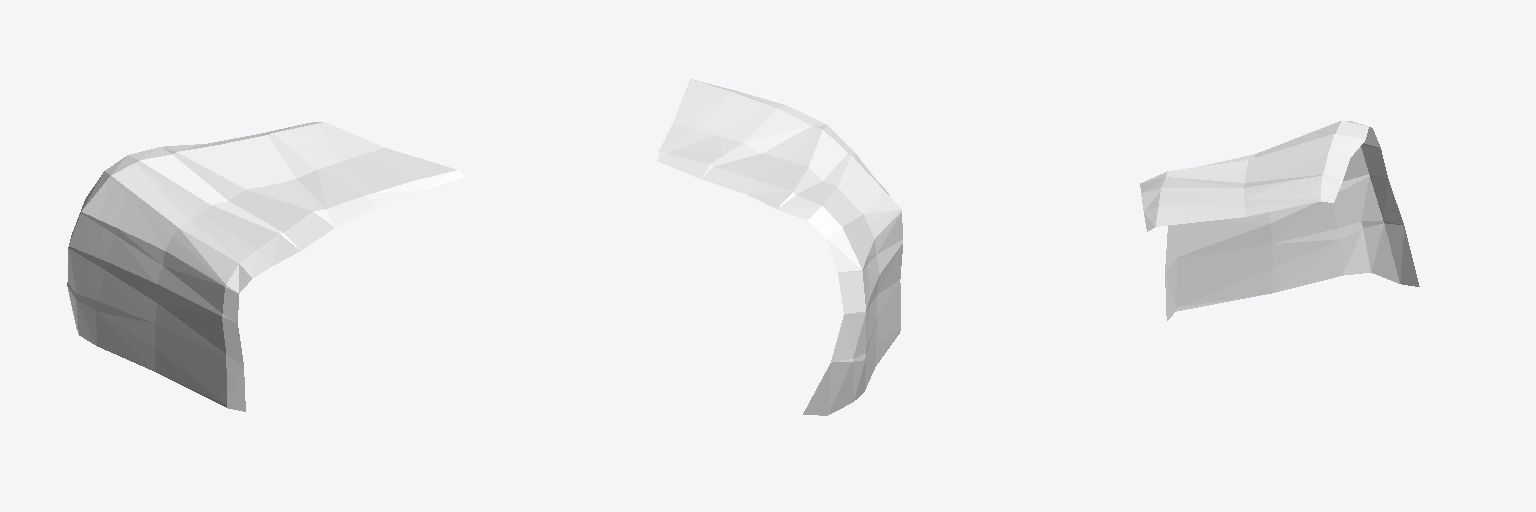
The model's file is SplineWater04.obj.
The picture shows the model from 3 angles: view 1: azimuth 30°, elevation 25°; view 2: azimuth 150°, elevation 25°; view 3: azimuth 270°, elevation 25°; orthographic projection.
Parts seen in each view (by area): view 1: SplineWater04; view 2: SplineWater04; view 3: SplineWater04.
Boxes of the visible parts, <box> form: SplineWater04: <box>67,122,464,411</box>; SplineWater04: <box>657,79,902,415</box>; SplineWater04: <box>1140,121,1419,320</box>.
Bounding box in the file's own units: 130 × 85.61 × 110.